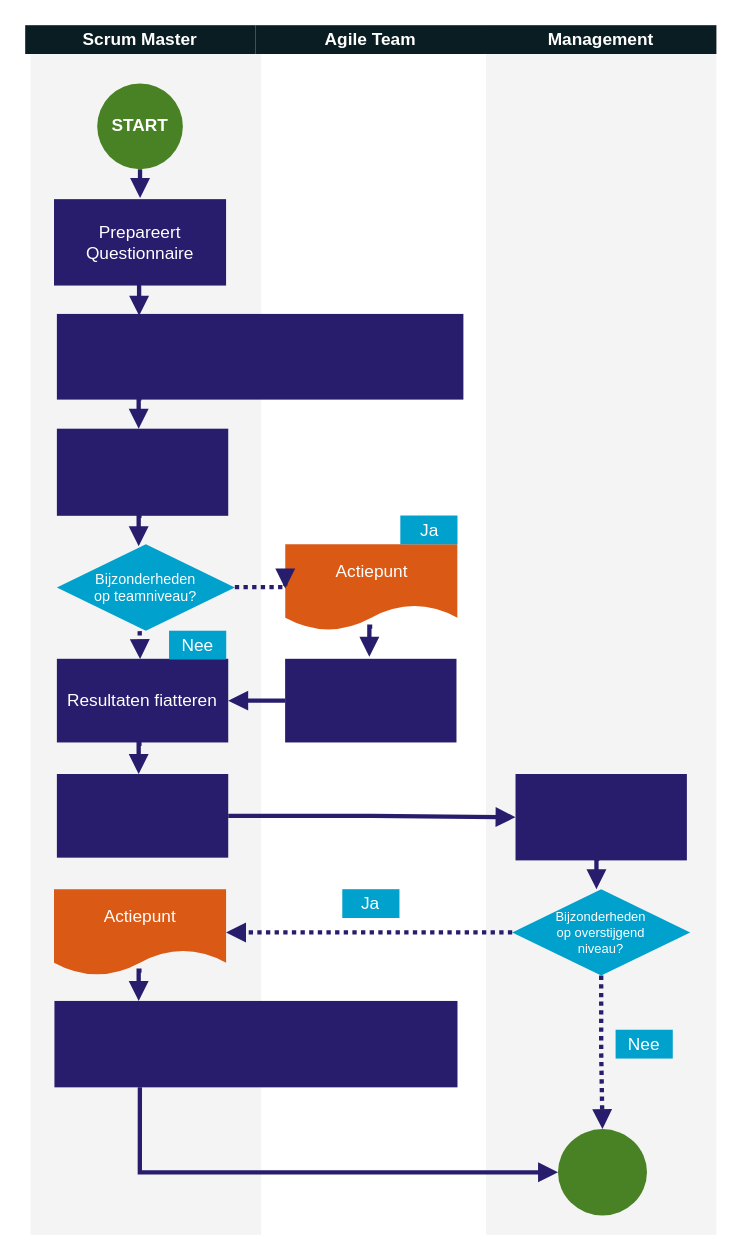
Image size: 740x1259. Some labels were removed from this diagram. Each missing label, with the box of its shape:
Actiepunt gezamenlijk opvolgen: (54, 1000, 457, 1087)
Actiepunt opvolgen en borgen: (284, 658, 456, 742)
EINDE: (557, 1128, 646, 1215)
Invullen questionnaire: (56, 313, 463, 399)
Resultaten voorleggen aan MT: (56, 773, 228, 857)
Verzamelt en analyseert resultaten: (56, 428, 228, 515)
Verzamelt en analyseert resultaten teams: (515, 773, 686, 860)
